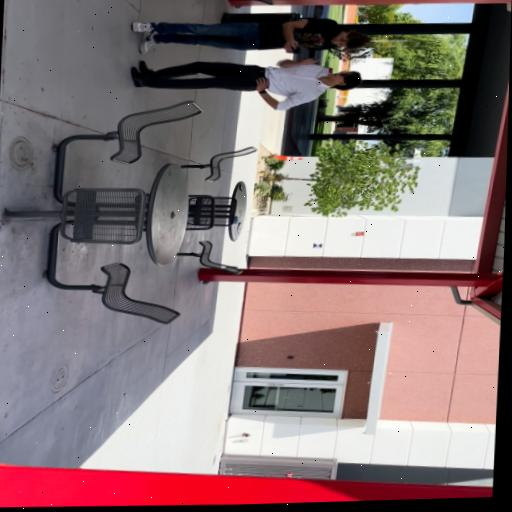target6: (312, 242, 323, 249)
